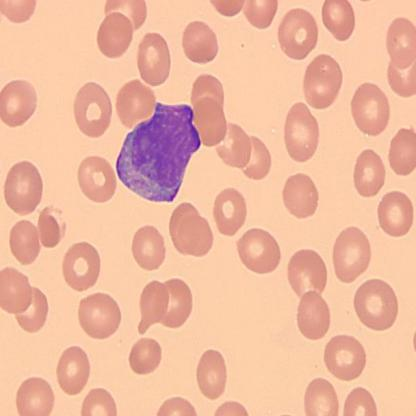Promyelocyte: (116, 104, 202, 204)
